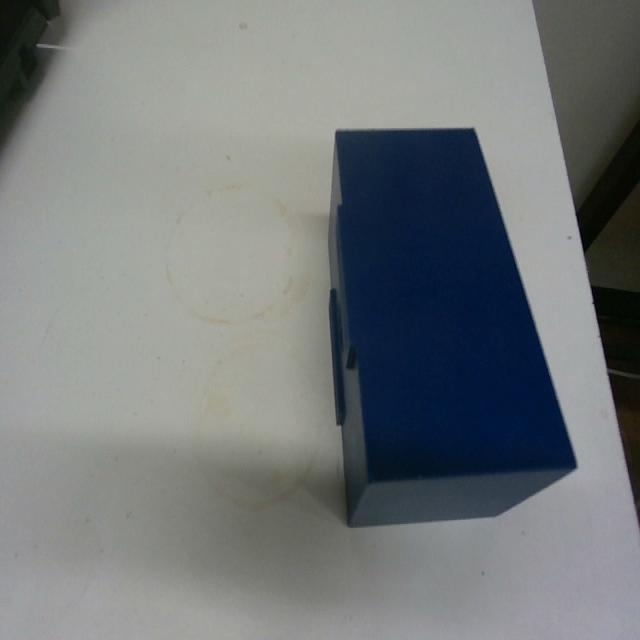Blue Cuboid: (324, 123, 578, 528)
